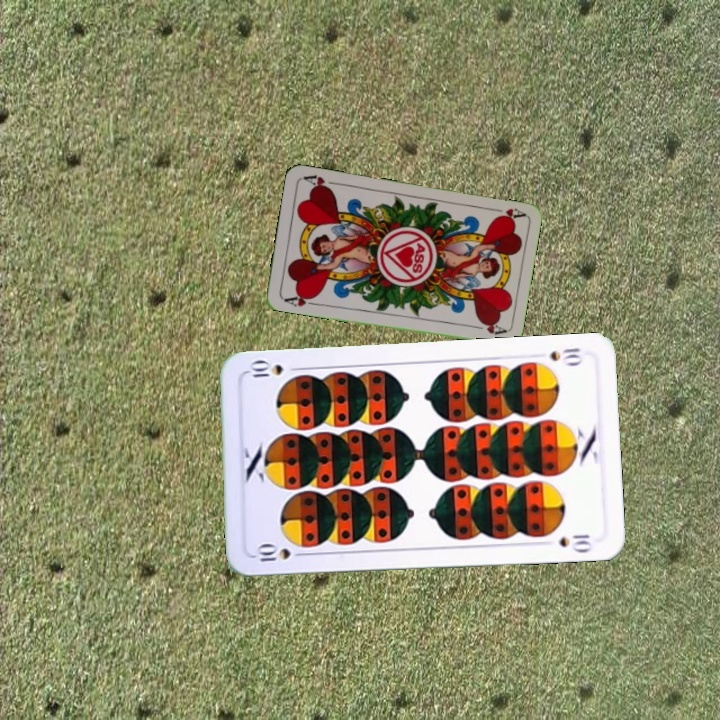HA: (280, 289, 320, 309), (486, 204, 526, 223)
S10: (250, 542, 310, 564), (545, 343, 584, 368)
